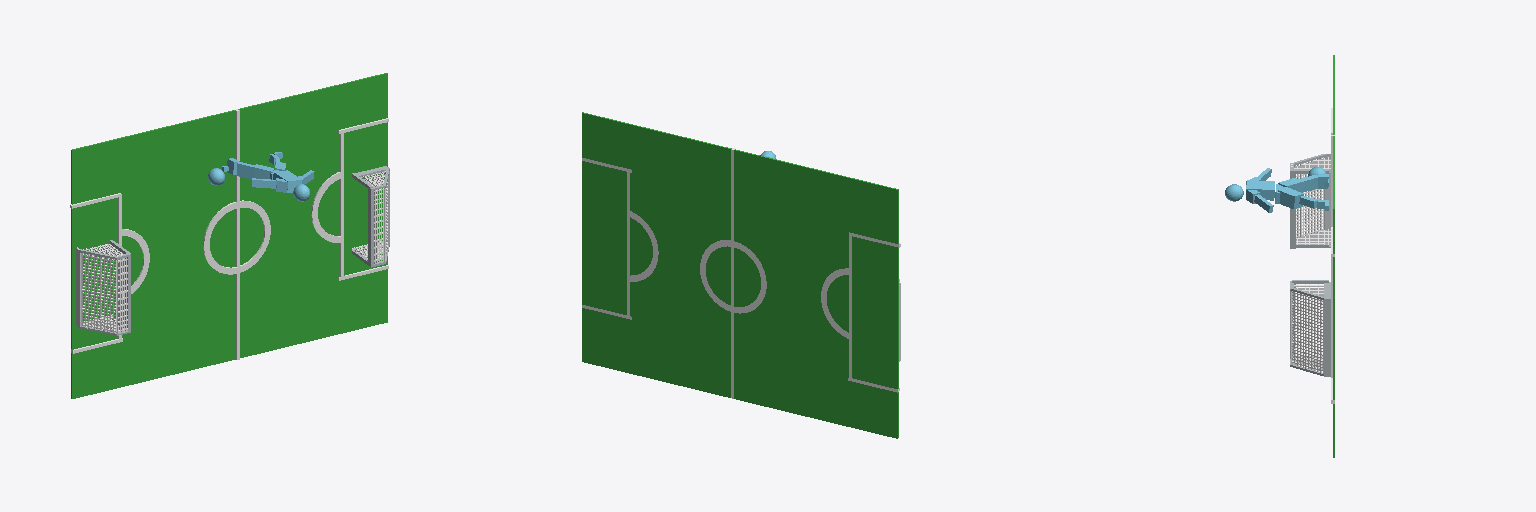
The model's file is tinker.obj.
The picture shows the model from 3 angles: view 1: azimuth 30°, elevation 25°; view 2: azimuth 150°, elevation 25°; view 3: azimuth 270°, elevation 25°; orthographic projection.
Parts seen in each view (by area): view 1: obj_0; view 2: obj_0; view 3: obj_0.
Boxes of the visible parts, box(x1,y1,x2,y2) form: obj_0: box(70, 73, 389, 398); obj_0: box(582, 112, 900, 438); obj_0: box(1225, 55, 1334, 457).
Size of the model in its own units: 20 by 15 by 6.